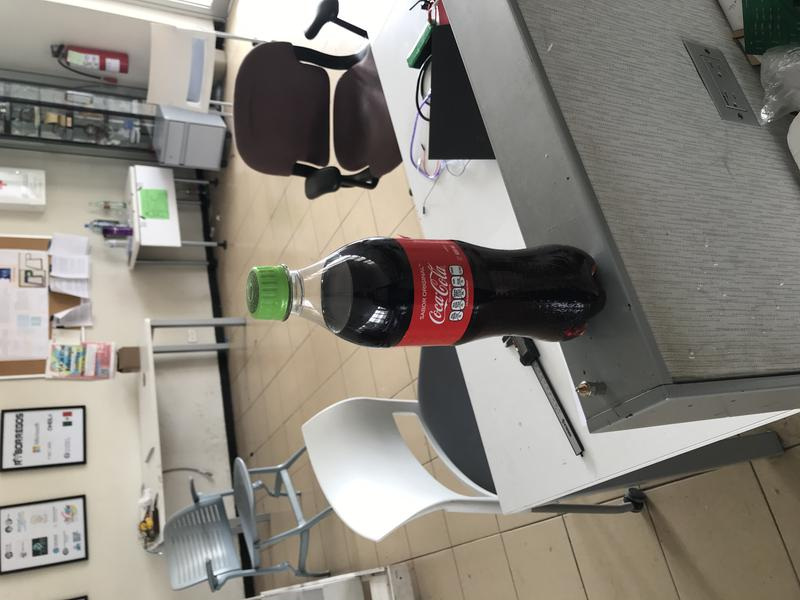coca_cola: (246, 237, 607, 349)
